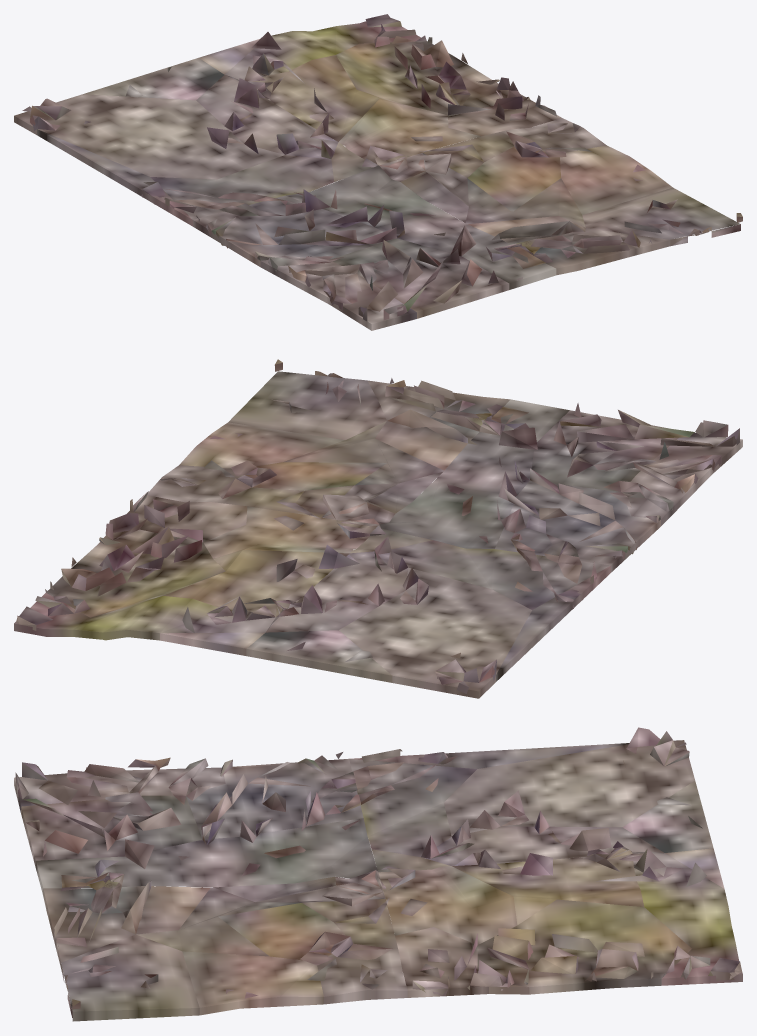
3 views of the same model, one above another, from view 1: azimuth 30°, elevation 25°; view 2: azimuth 150°, elevation 25°; view 3: azimuth 270°, elevation 25° (orthographic). The views are drawn at different scales.
Visible parts, largest first — view 1: Mesh_0; view 2: Mesh_0; view 3: Mesh_0.
Boxes of the visible parts, left/top/right/bottom form: Mesh_0: left=14, top=14, right=742, bottom=330; Mesh_0: left=14, top=359, right=742, bottom=698; Mesh_0: left=14, top=727, right=742, bottom=1021.
Bounding box in the file's own units: 1071 × 104 × 1318.
1 material, 1 textured.
